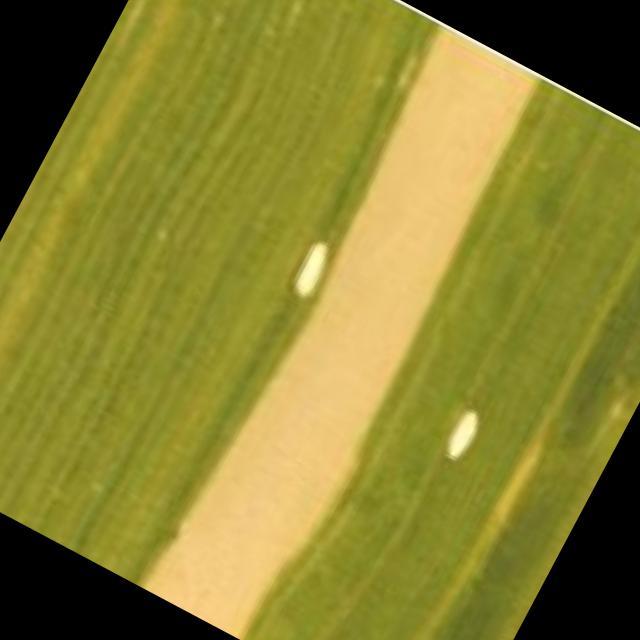whorl-maggot: (274, 225, 345, 310), (426, 398, 489, 472)
